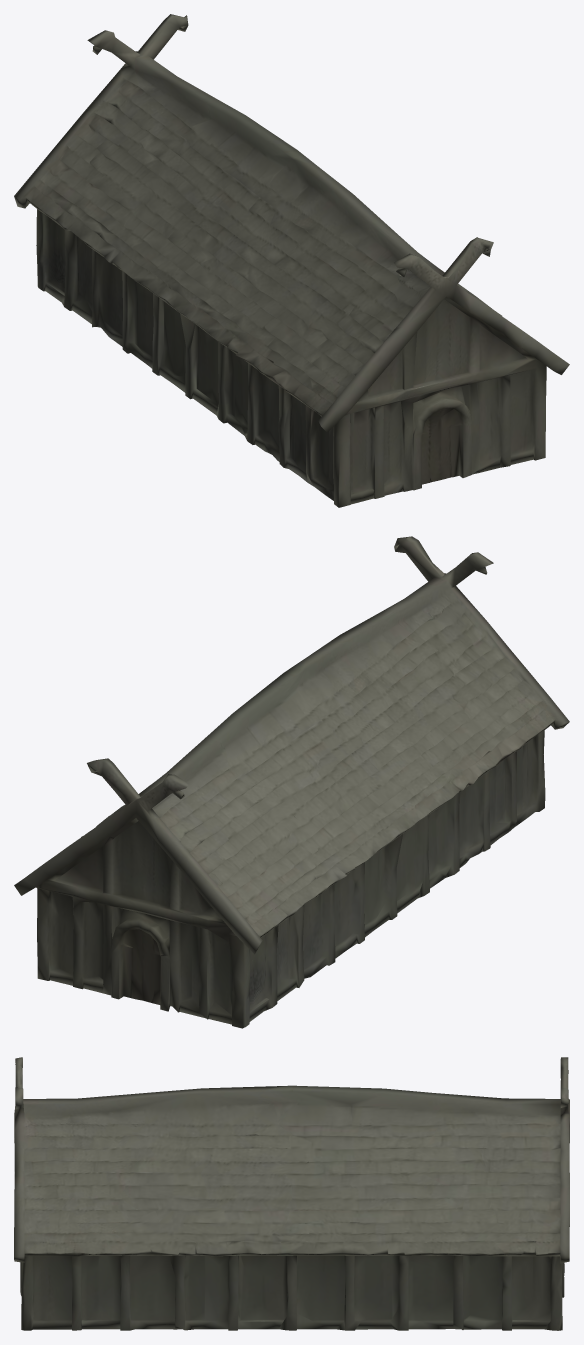
The model's file is hall.glb.
3 views of the same model, one above another, from view 1: azimuth 30°, elevation 25°; view 2: azimuth 150°, elevation 25°; view 3: azimuth 270°, elevation 25° (orthographic). The views are drawn at different scales.
Parts seen in each view (by area): view 1: tripo_node_9ce213b7-5b57-484a-96f2-96e71d63088b; view 2: tripo_node_9ce213b7-5b57-484a-96f2-96e71d63088b; view 3: tripo_node_9ce213b7-5b57-484a-96f2-96e71d63088b.
Part boxes in pixels (bbox=[...]): tripo_node_9ce213b7-5b57-484a-96f2-96e71d63088b: bbox=[14, 14, 569, 507]; tripo_node_9ce213b7-5b57-484a-96f2-96e71d63088b: bbox=[14, 536, 569, 1028]; tripo_node_9ce213b7-5b57-484a-96f2-96e71d63088b: bbox=[14, 1057, 569, 1330].
Size of the model in its own units: 0.4602 by 0.4222 by 1.
1 material, 1 textured.
